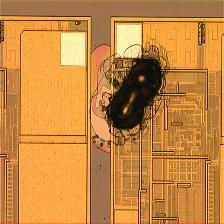PARTICLE: (83, 37, 175, 158)
